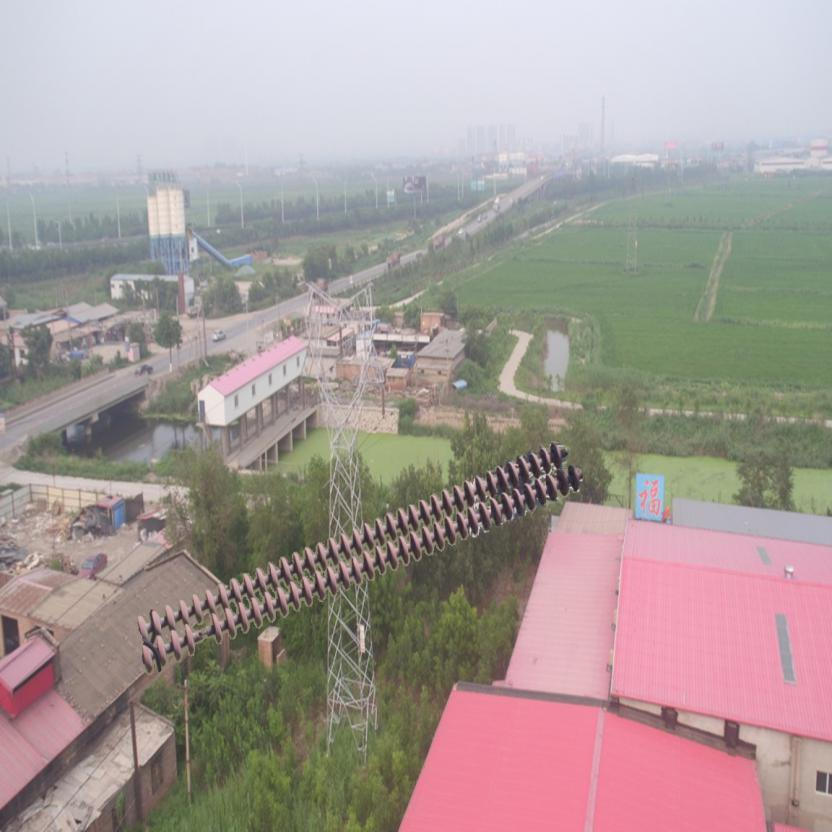defect: (179, 612, 226, 658)
